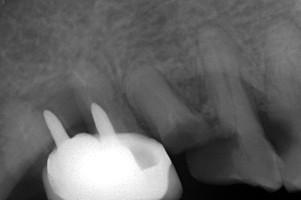Endo-Periodontal Lesion: (38, 86, 92, 139), (168, 72, 208, 113)
